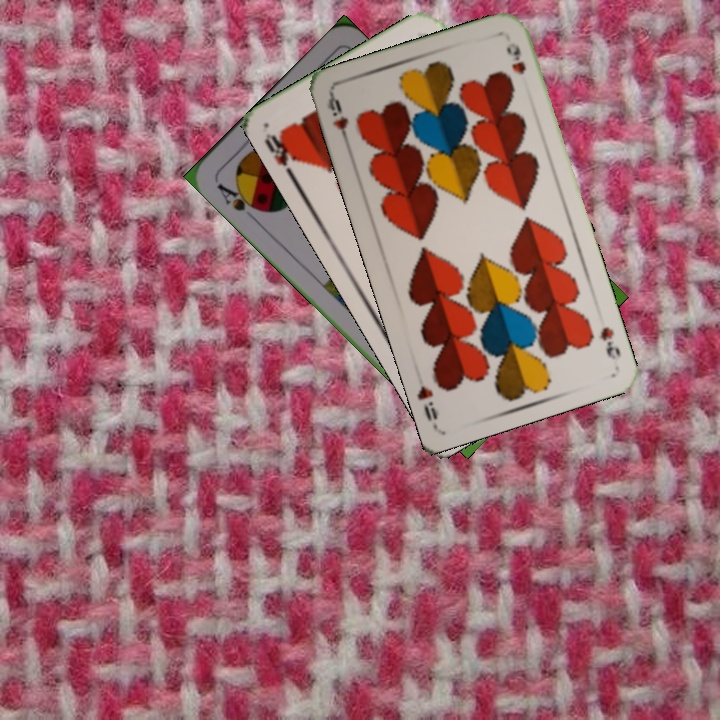H9: (323, 92, 352, 150), (595, 322, 624, 362)
HO: (260, 127, 301, 182)
SA: (212, 179, 266, 215)
